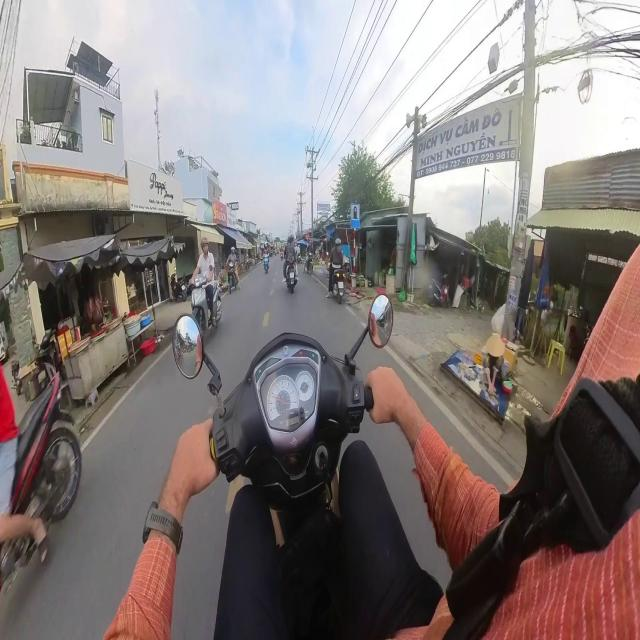motorcycle: (173, 294, 392, 637), (11, 373, 81, 524), (191, 274, 221, 334), (429, 276, 448, 306), (170, 274, 187, 301), (332, 265, 344, 303), (227, 262, 240, 294), (285, 261, 297, 293), (305, 256, 312, 274), (264, 257, 268, 273)
